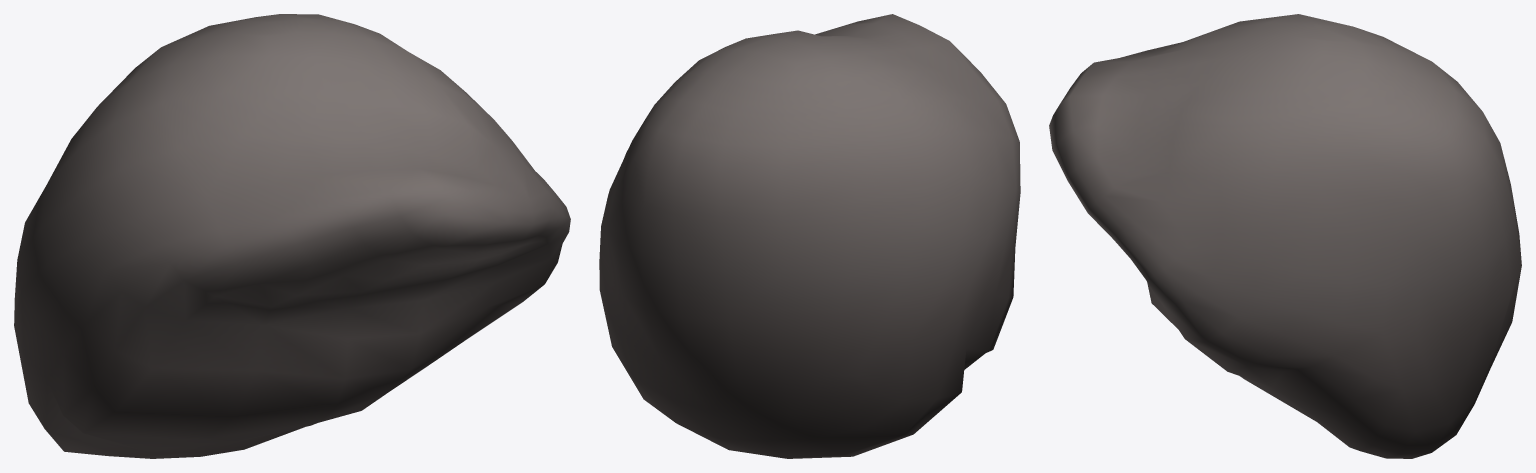
The model's file is Hairstyle_Male_09.glb.
3 views of the same model, side by side, from view 1: azimuth 30°, elevation 25°; view 2: azimuth 150°, elevation 25°; view 3: azimuth 270°, elevation 25° (orthographic). The views are drawn at different scales.
Parts seen in each view (by area): view 1: Hairstyle_Male_09; view 2: Hairstyle_Male_09; view 3: Hairstyle_Male_09.
Part boxes in pixels (x1,y1,x2,y2): Hairstyle_Male_09: [14, 14, 570, 458]; Hairstyle_Male_09: [599, 14, 1020, 458]; Hairstyle_Male_09: [1049, 14, 1521, 458].
Bounding box in the file's own units: 0.6071 × 0.5438 × 0.6042.
1 material, 1 textured.
